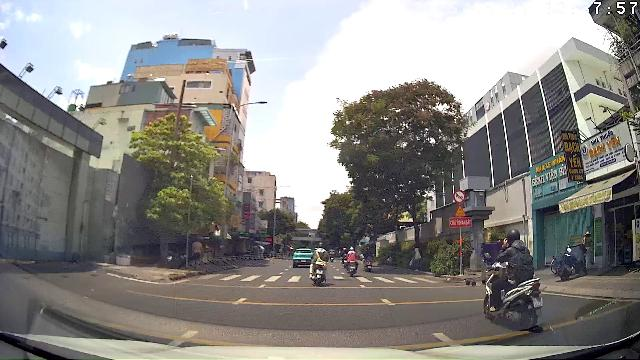128-cam-su-dung-coi: (452, 189, 466, 202)
